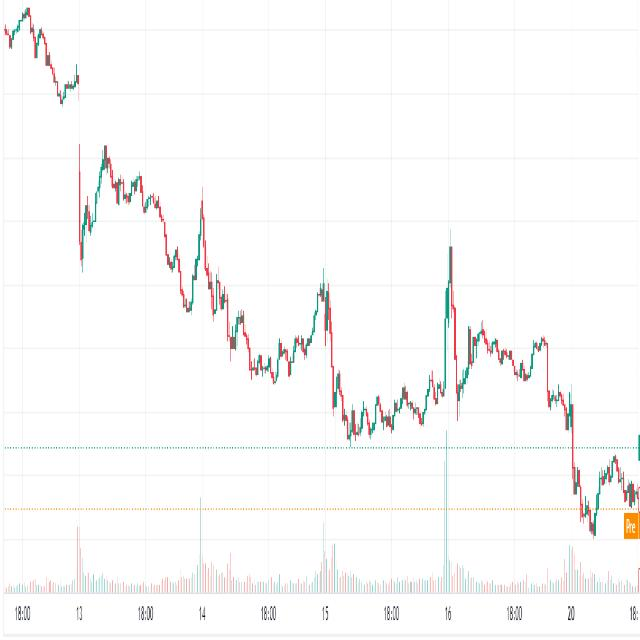Double-Top: (311, 262, 335, 354)
Head-Shoulders: (440, 232, 464, 442), (186, 182, 215, 344)
Rounding-Bottom: (189, 174, 337, 429), (324, 224, 455, 455)
Rounding-Top: (75, 121, 190, 329)
Triangle: (445, 238, 532, 455)
